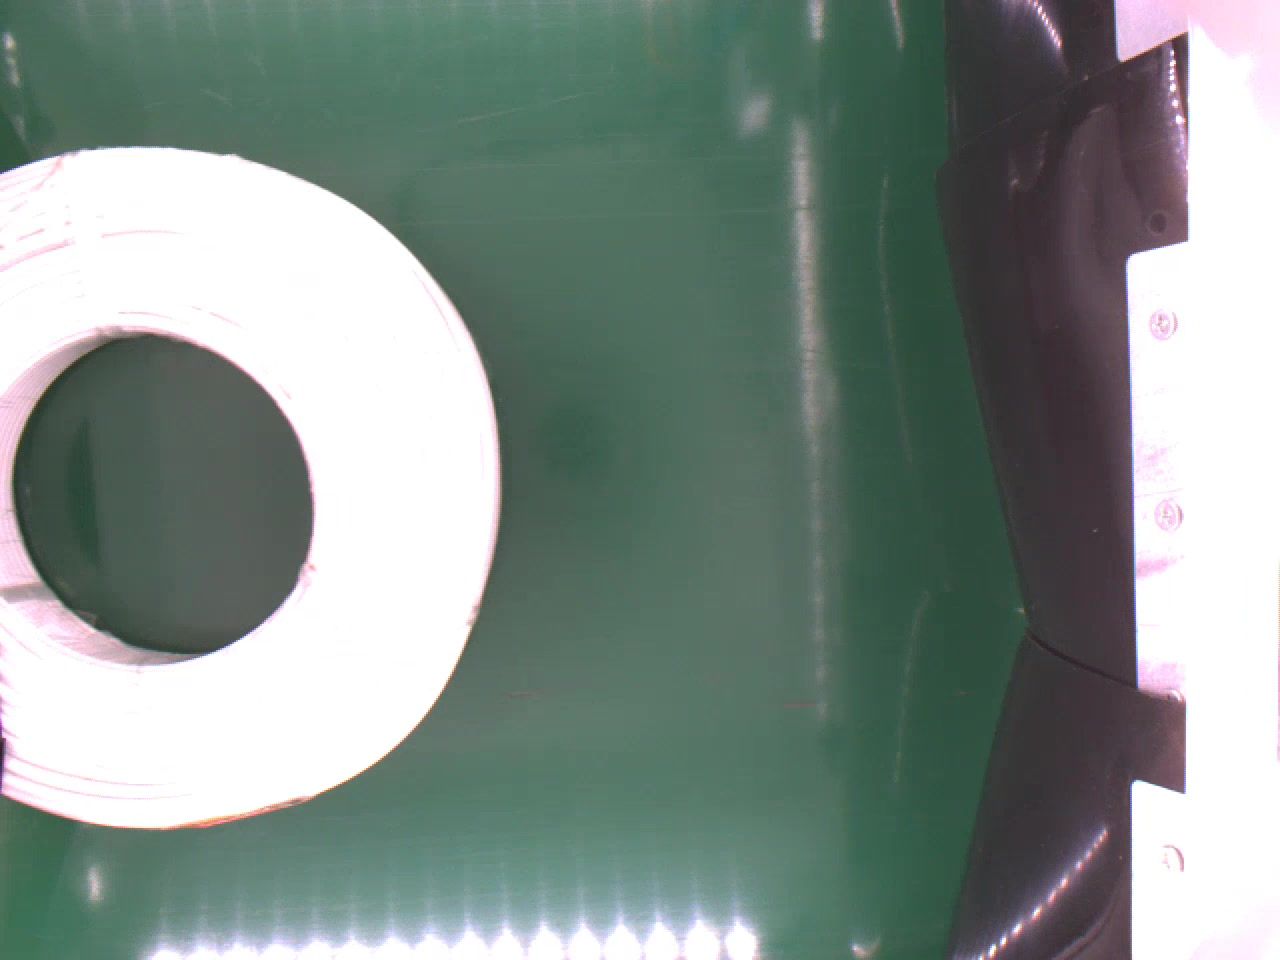white: (0, 140, 503, 831)
